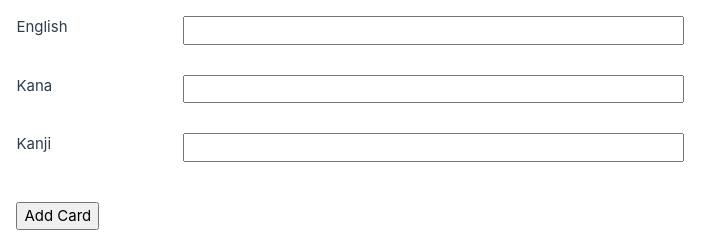
Scenario: AddCardView › when the data is valid › and the create request succeeds › shows the success method
Step 1. Type "cat" into the field named "englishAnswer" next to "English" → (433, 30), box [183,16,684,44]
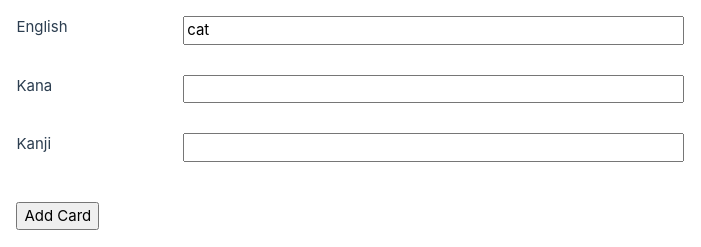
Step 2. Type "ねこ" into the field named "japaneseKanaAnswer" next to "Kana" → (433, 89), box [183,74,684,103]
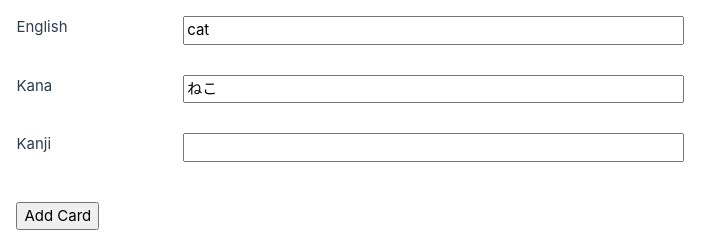
Step 3. Type "猫" into the field named "japaneseKanjiAnswer" next to "Kanji" → (433, 147), box [183,133,684,162]
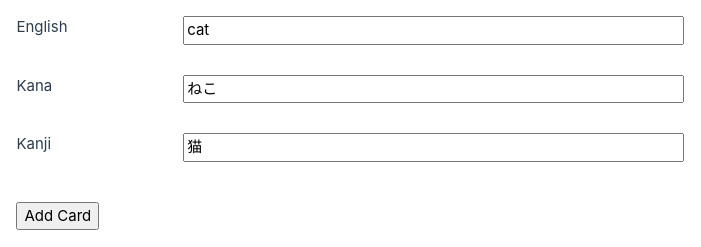
Step 4. Submit the form
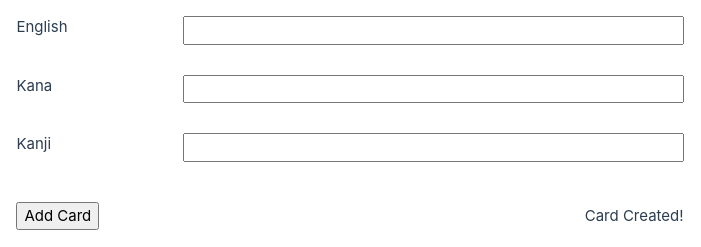
Now the text "Card Created!" is shown, box [585,204,684,227]
